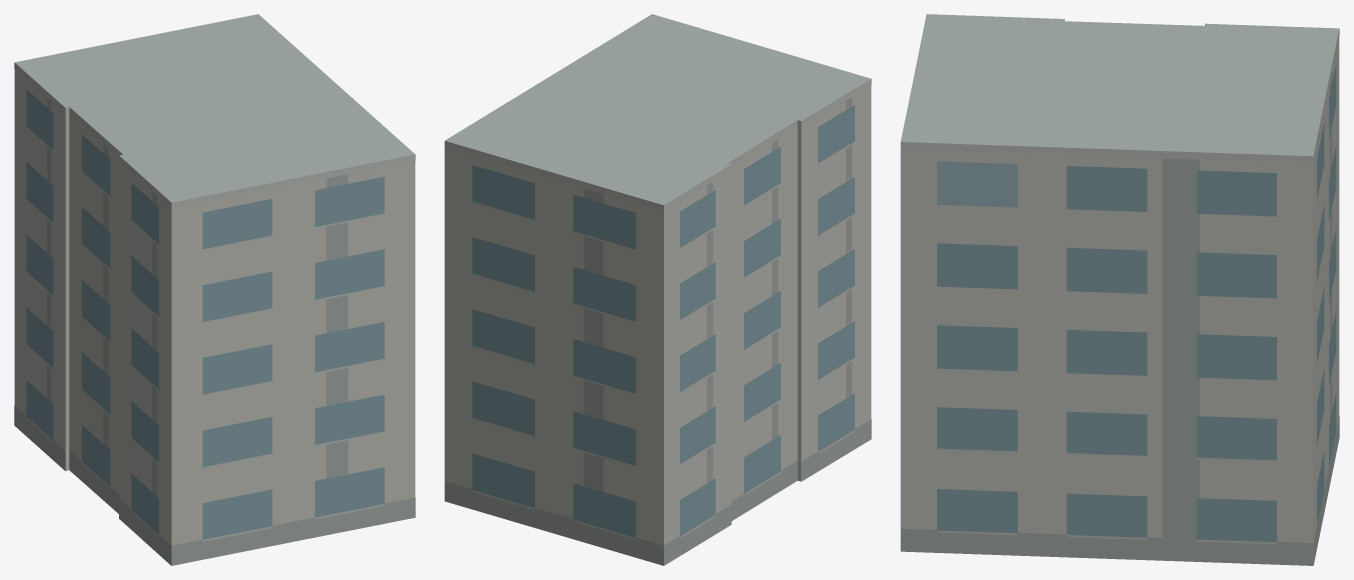
Rendered from survey-upis-32576037.glb.
The picture shows the model from 3 angles, left to right: view 1: azimuth 30°, elevation 25°; view 2: azimuth 150°, elevation 25°; view 3: azimuth 270°, elevation 25°; orthographic projection. The views are drawn at different scales.
Parts seen in each view (by area): view 1: survey-upis-32576037.tmp; view 2: survey-upis-32576037.tmp; view 3: survey-upis-32576037.tmp.
Part boxes in pixels (x1,y1,x2,y2): survey-upis-32576037.tmp: (14, 14, 415, 565); survey-upis-32576037.tmp: (444, 14, 871, 565); survey-upis-32576037.tmp: (900, 14, 1339, 565).
Bounding box in the file's own units: 9.91 × 13.3 × 12.92.
